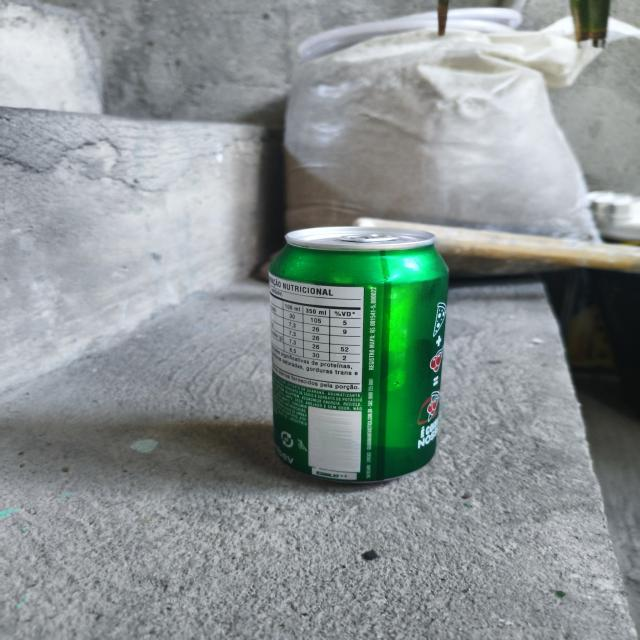Guarana: (255, 208, 464, 488)
